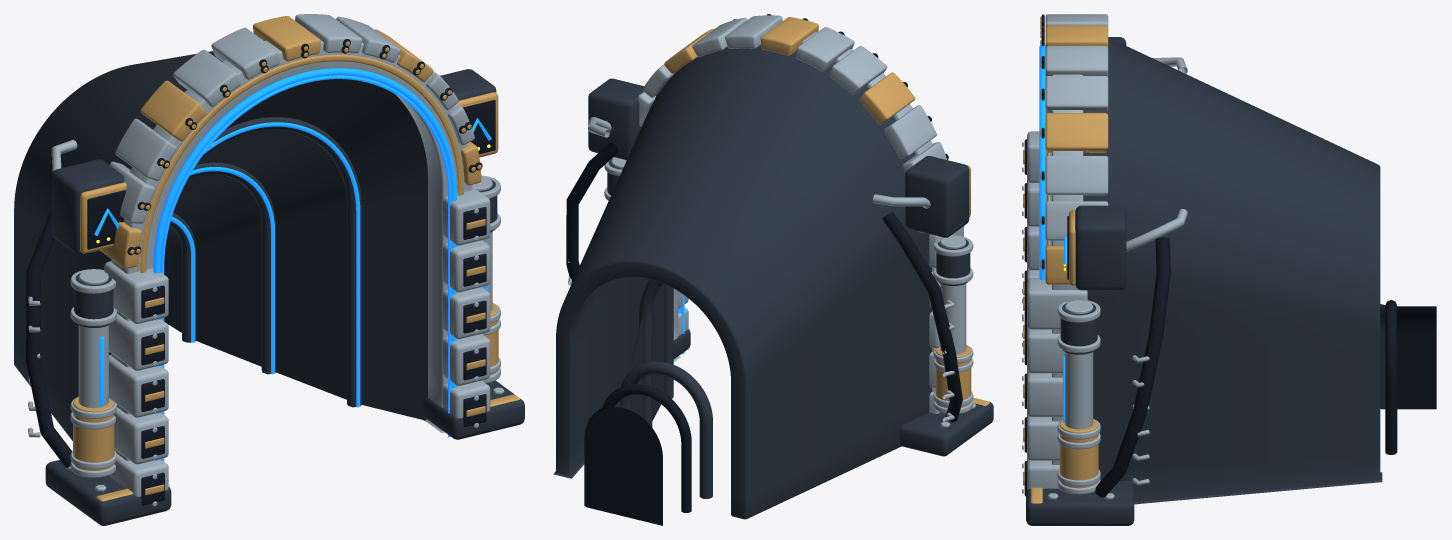
Rendered from portal.glb.
3 renders of one model, left to right at view 1: azimuth 30°, elevation 25°; view 2: azimuth 150°, elevation 25°; view 3: azimuth 270°, elevation 25°, orthographic. The views are drawn at different scales.
Parts seen in each view (by area): view 1: Portal graphite titanium housing, Portal polished chromium, Portal champagne gold machined plates, Portal inner ribbed rubber, Portal cyan emissive light pipe; view 2: Portal graphite titanium housing, Portal inner ribbed rubber, Portal polished chromium, Portal champagne gold machined plates; view 3: Portal graphite titanium housing, Portal polished chromium, Portal inner ribbed rubber, Portal champagne gold machined plates, Portal cyan emissive light pipe.
Boxes of the visible parts, box(x1,y1,x2,y2) form: Portal graphite titanium housing: box(14, 51, 524, 525); Portal polished chromium: box(28, 14, 504, 506); Portal champagne gold machined plates: box(73, 16, 520, 501); Portal inner ribbed rubber: box(26, 39, 495, 505); Portal cyan emissive light pipe: box(94, 68, 491, 461); Portal graphite titanium housing: box(553, 45, 993, 519); Portal inner ribbed rubber: box(566, 14, 962, 525); Portal polished chromium: box(568, 15, 975, 427); Portal champagne gold machined plates: box(624, 17, 989, 407); Portal graphite titanium housing: box(1026, 37, 1385, 525); Portal polished chromium: box(1022, 14, 1187, 499); Portal inner ribbed rubber: box(1024, 14, 1436, 497); Portal champagne gold machined plates: box(1023, 16, 1108, 503); Portal cyan emissive light pipe: box(1039, 44, 1067, 422).
Size of the model in its own units: 4.51 by 4.06 by 3.84.
